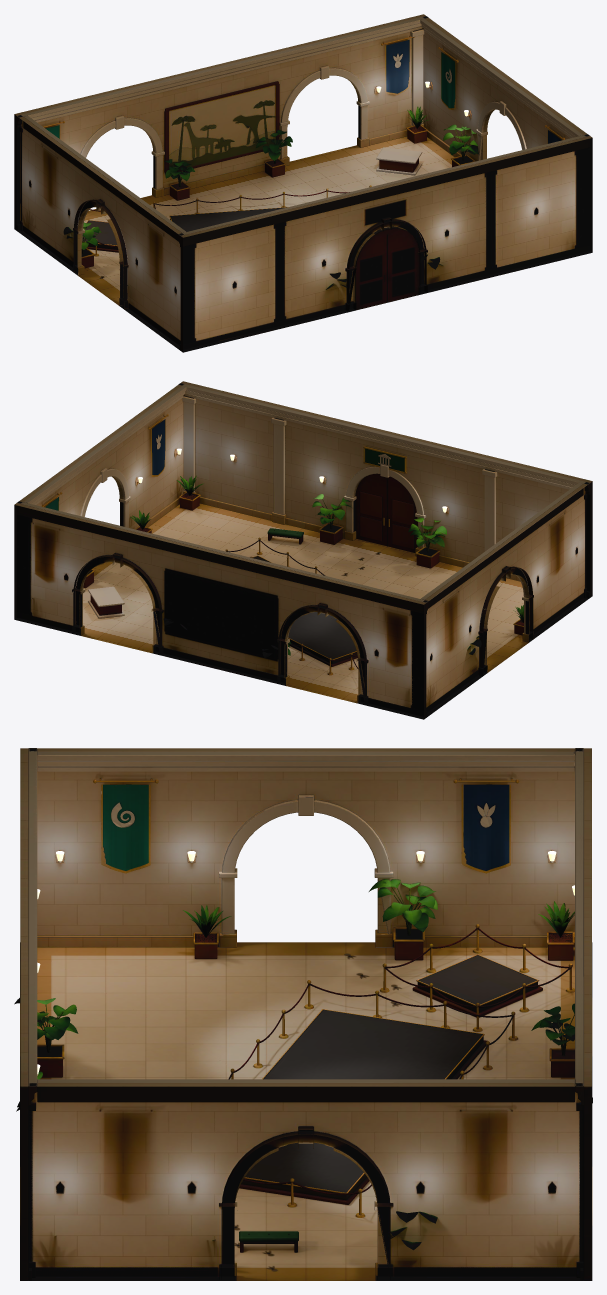
File: hall.glb
3 renders of one model, top to bottom at view 1: azimuth 30°, elevation 25°; view 2: azimuth 150°, elevation 25°; view 3: azimuth 270°, elevation 25°, orthographic. The views are drawn at different scales.
Parts seen in each view (by area): view 1: wall_S, wall_N, wall_W, floor, wall_E, decor, stand_trex, stand_globe, stand_moai; view 2: wall_S, wall_N, floor, wall_W, wall_E, decor, stand_trex, stand_globe; view 3: wall_E, wall_W, floor, stand_trex, decor, wall_S, wall_N, stand_moai.
Boxes of the visible parts, <box> form: wall_S: <box>178,134,592,351</box>; wall_N: <box>14,14,428,231</box>; wall_W: <box>16,115,185,345</box>; floor: <box>14,136,592,352</box>; wall_E: <box>420,16,589,245</box>; decor: <box>63,106,479,289</box>; stand_trex: <box>153,185,399,233</box>; stand_globe: <box>376,147,422,175</box>; stand_moai: <box>82,209,118,256</box>; wall_S: <box>178,381,592,598</box>; wall_N: <box>14,501,428,718</box>; floor: <box>14,503,592,719</box>; wall_W: <box>421,482,590,712</box>; wall_E: <box>17,383,186,611</box>; decor: <box>32,475,523,657</box>; stand_trex: <box>225,537,357,675</box>; stand_globe: <box>88,586,124,618</box>; wall_E: <box>28,1079,583,1279</box>; wall_W: <box>29,748,582,947</box>; floor: <box>20,942,592,1280</box>; stand_trex: <box>228,980,517,1217</box>; decor: <box>14,879,592,1252</box>; wall_S: <box>20,748,38,1280</box>; wall_N: <box>574,748,591,1280</box>; stand_moai: <box>380,924,574,1031</box>.
Bounding box in the file's own units: 28.48 × 7.5 × 20.24.
Materials: 5 (4 with a texture image).
